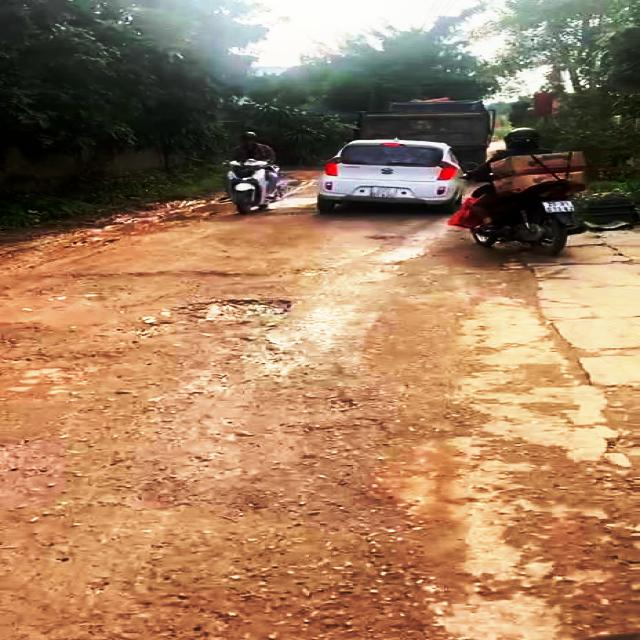pothole: (184, 294, 308, 328)
